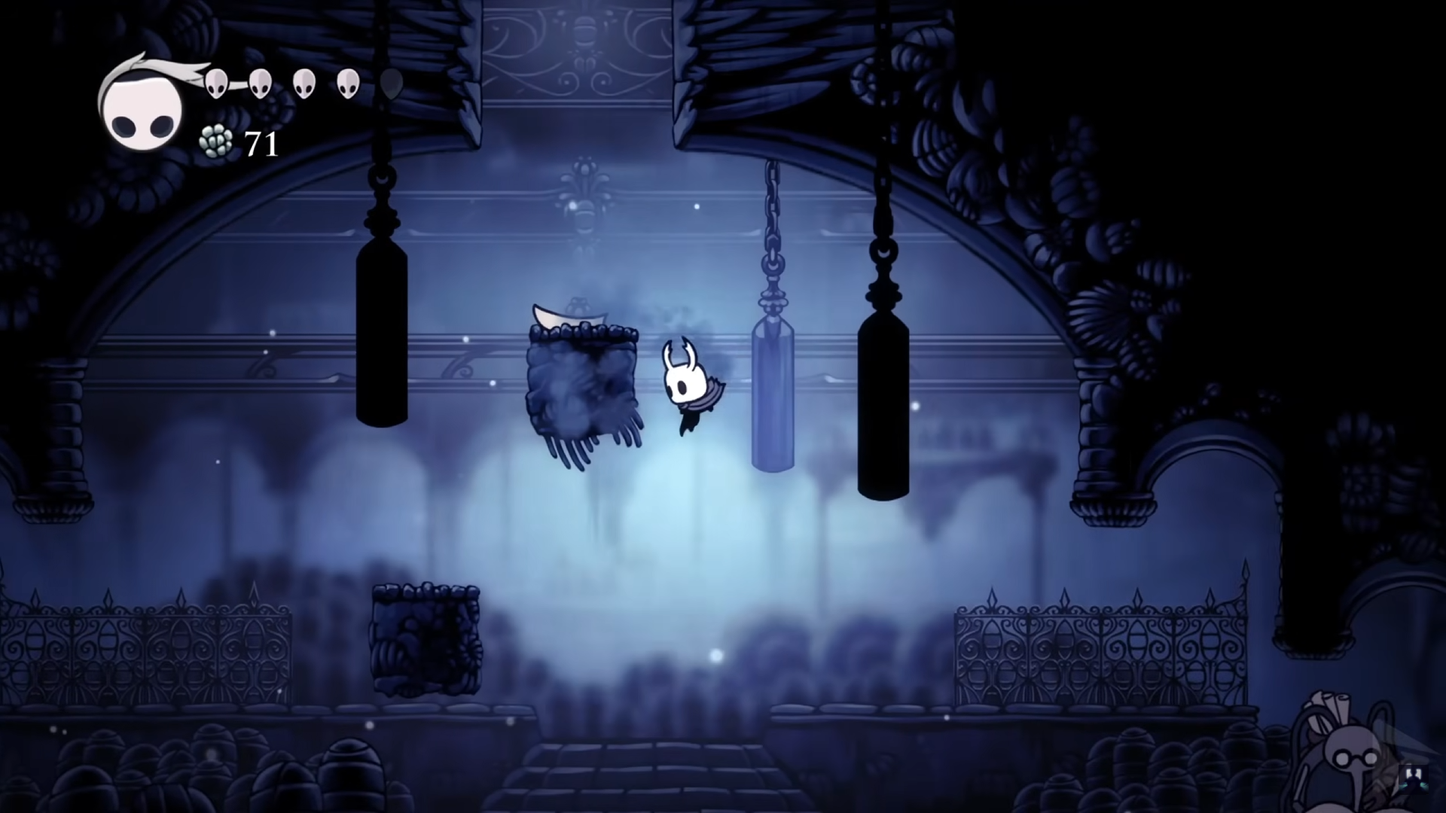HK: (659, 333, 729, 440)
